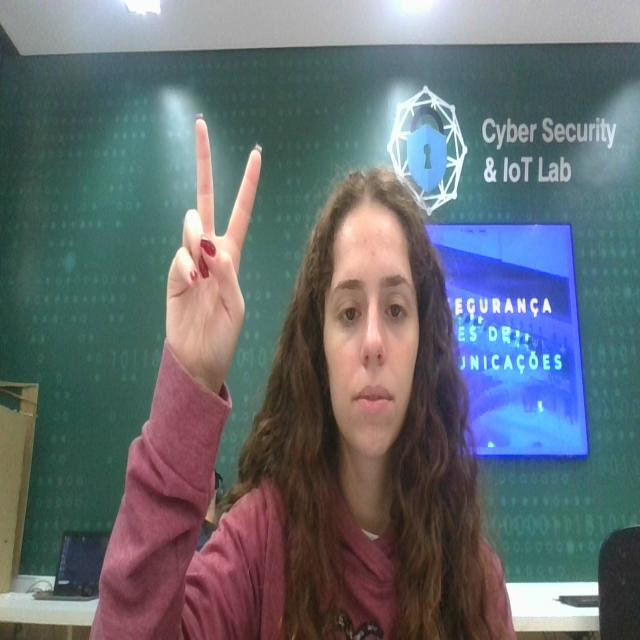V: (158, 113, 278, 404)
